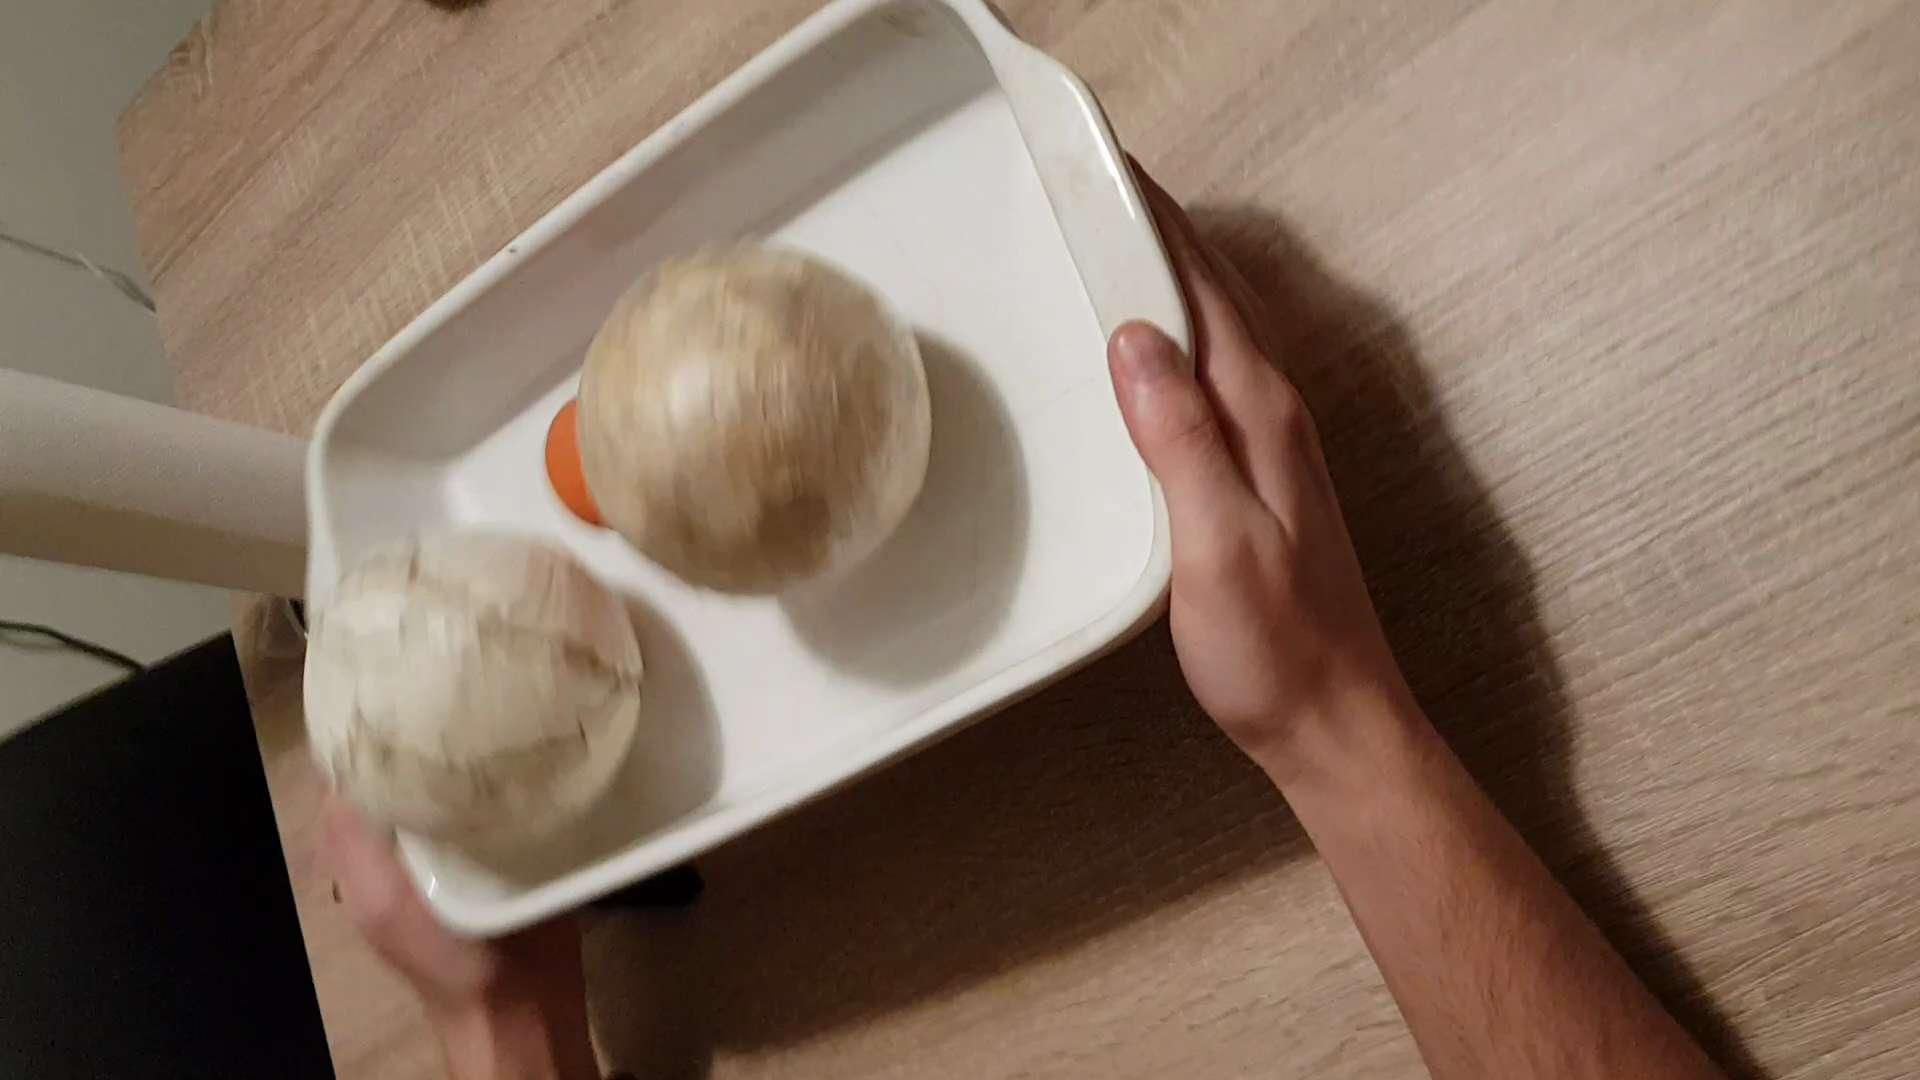Sphere: (567, 227, 938, 588), (295, 522, 647, 843)
